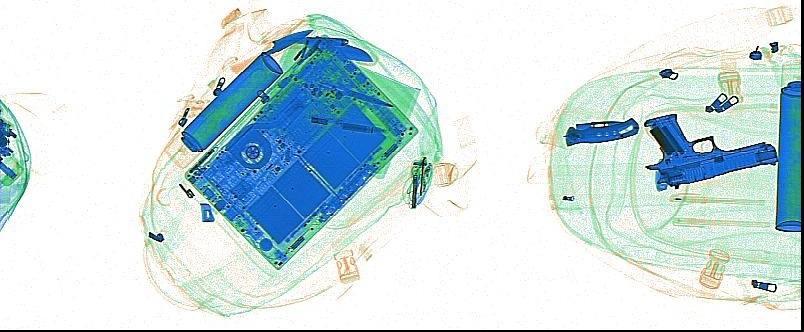knife: (229, 28, 312, 74), (564, 116, 638, 147), (306, 35, 376, 63)
pressure: (163, 51, 281, 168), (774, 58, 799, 232)
scissors: (304, 63, 394, 107)
